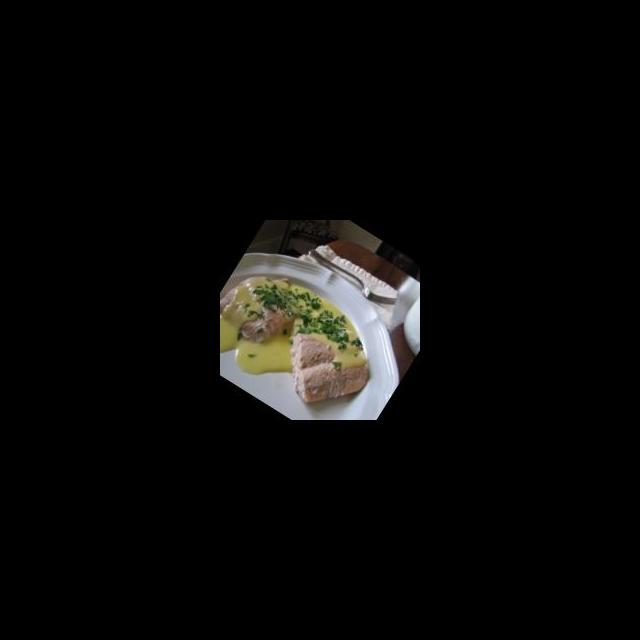ca hoi: (220, 251, 390, 420)
